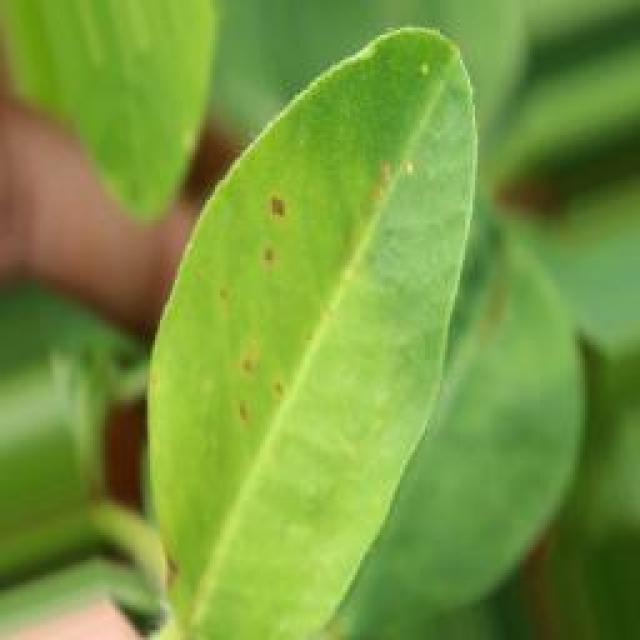Sigatoka: (196, 329, 291, 436), (344, 135, 432, 236), (255, 161, 303, 284), (146, 506, 198, 596), (202, 268, 236, 333)
